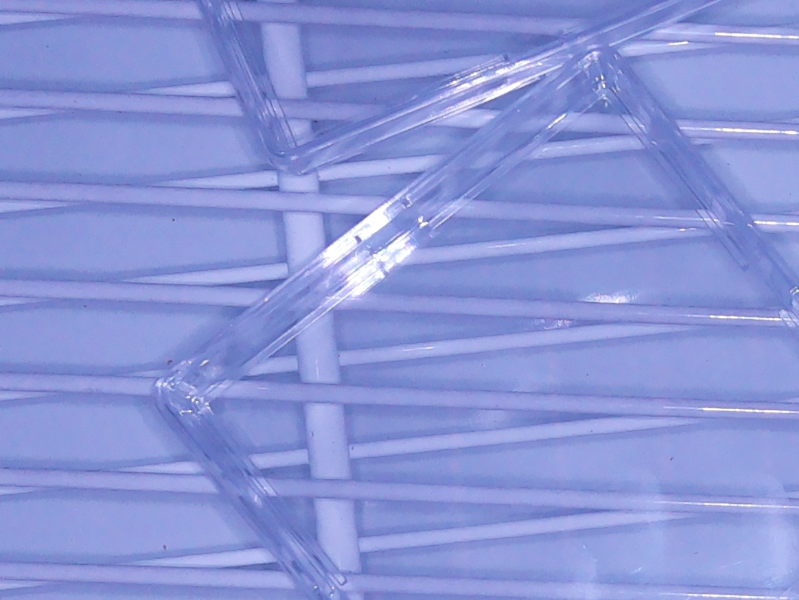plate: (148, 42, 799, 600), (198, 1, 725, 176)
